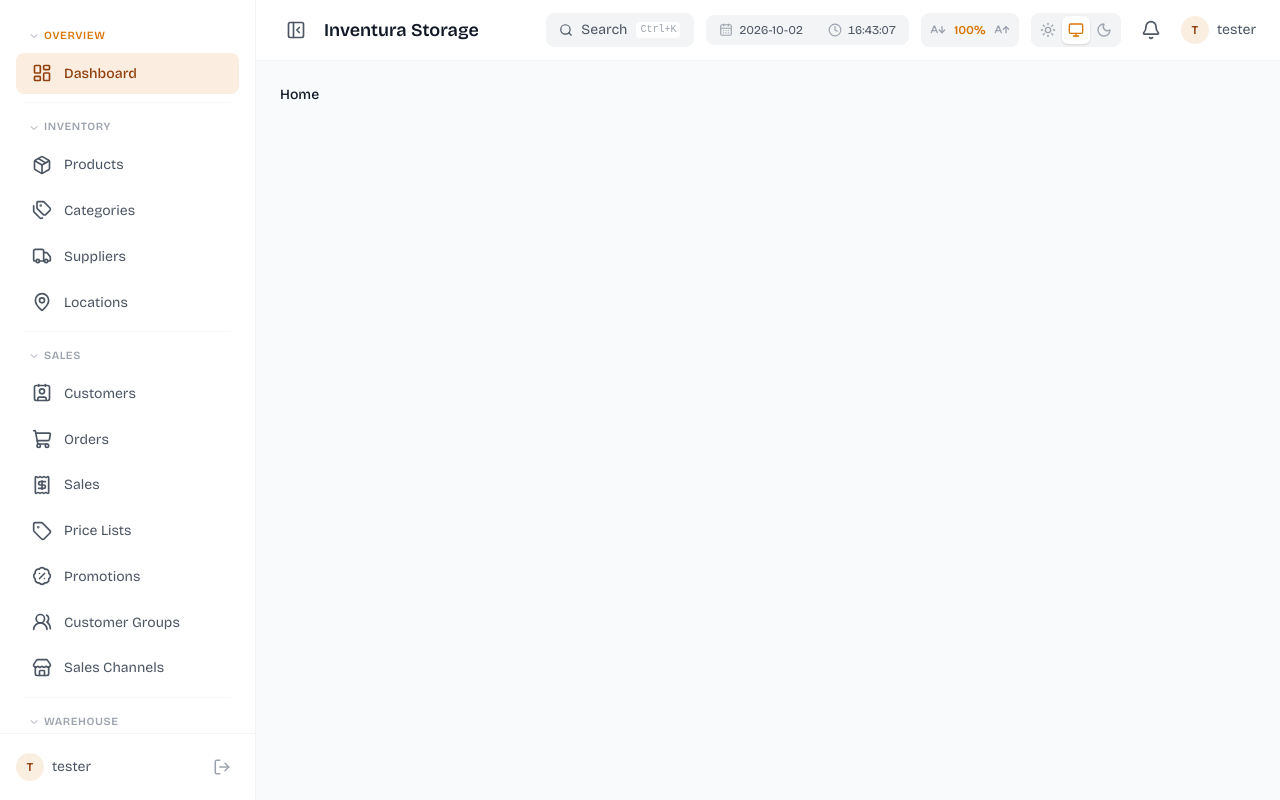
Test: Layout › increases the root font size with the increase control
The image size is (1280, 800).
Check: the button "100%" is shown, box top-left (952, 22), bottom-right (988, 38)
Click the button titled "Increase font size". click: (1002, 30)
box: top-left (988, 16), bottom-right (1016, 44)
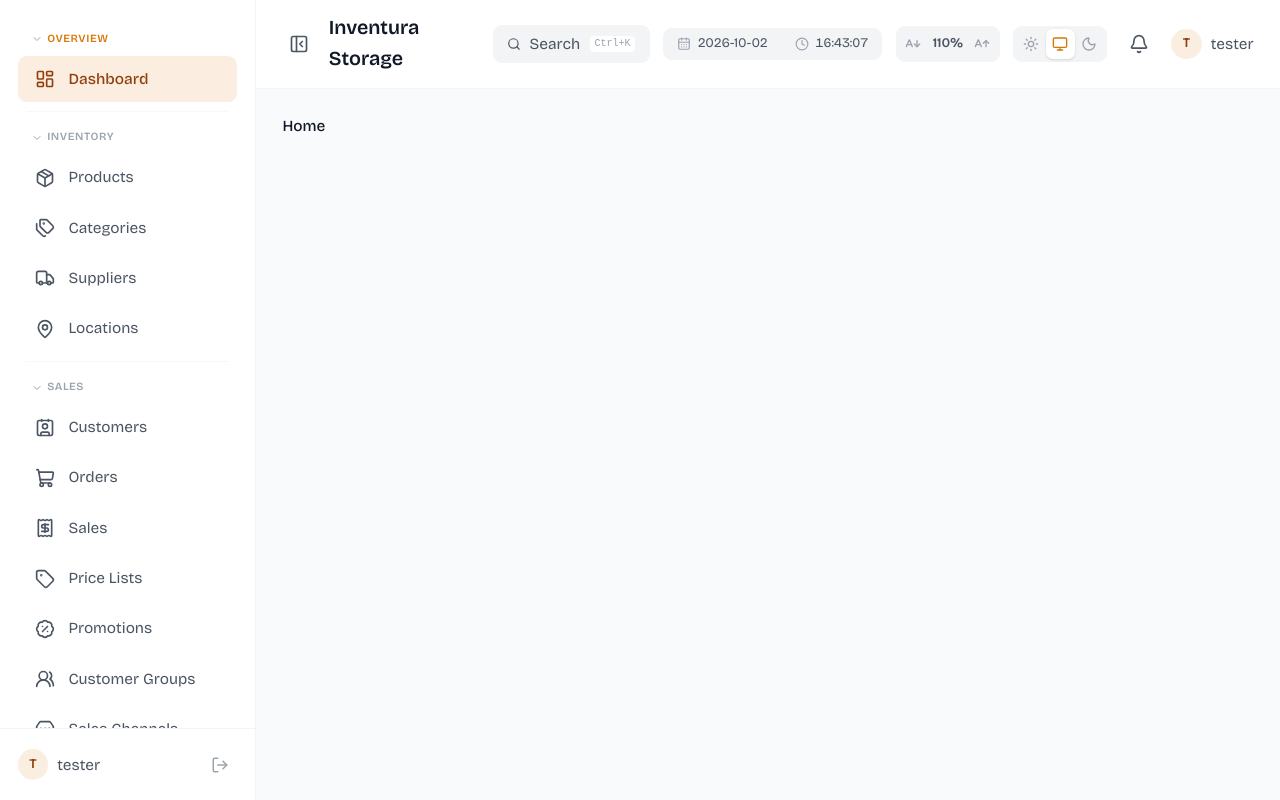
Check: the button "110%" is shown, box top-left (928, 35), bottom-right (968, 53)
